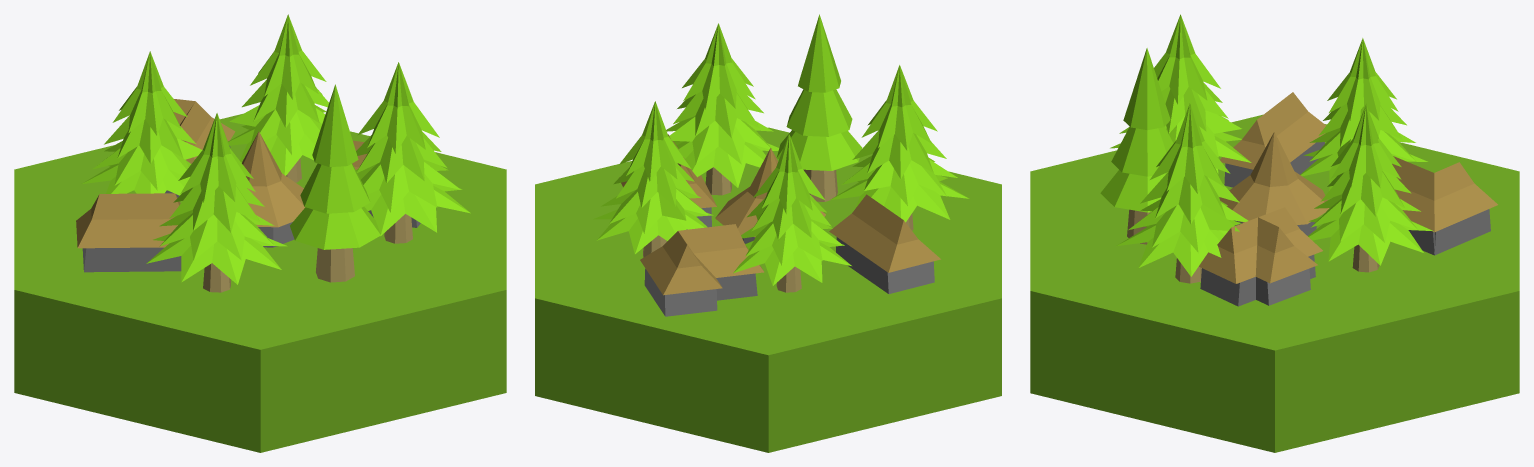
The model's file is Casas_Bosque_Pinos_4.fbx.
3 renders of one model, left to right at view 1: azimuth 30°, elevation 25°; view 2: azimuth 150°, elevation 25°; view 3: azimuth 270°, elevation 25°, orthographic. The views are drawn at different scales.
Parts seen in each view (by area): view 1: Casas_Bosque_Pinos_4; view 2: Casas_Bosque_Pinos_4; view 3: Casas_Bosque_Pinos_4.
Part boxes in pixels (x1,y1,x2,y2): Casas_Bosque_Pinos_4: [14, 14, 506, 452]; Casas_Bosque_Pinos_4: [535, 14, 1001, 452]; Casas_Bosque_Pinos_4: [1030, 14, 1519, 452].
Bounding box in the file's own units: 200 × 114 × 173.
